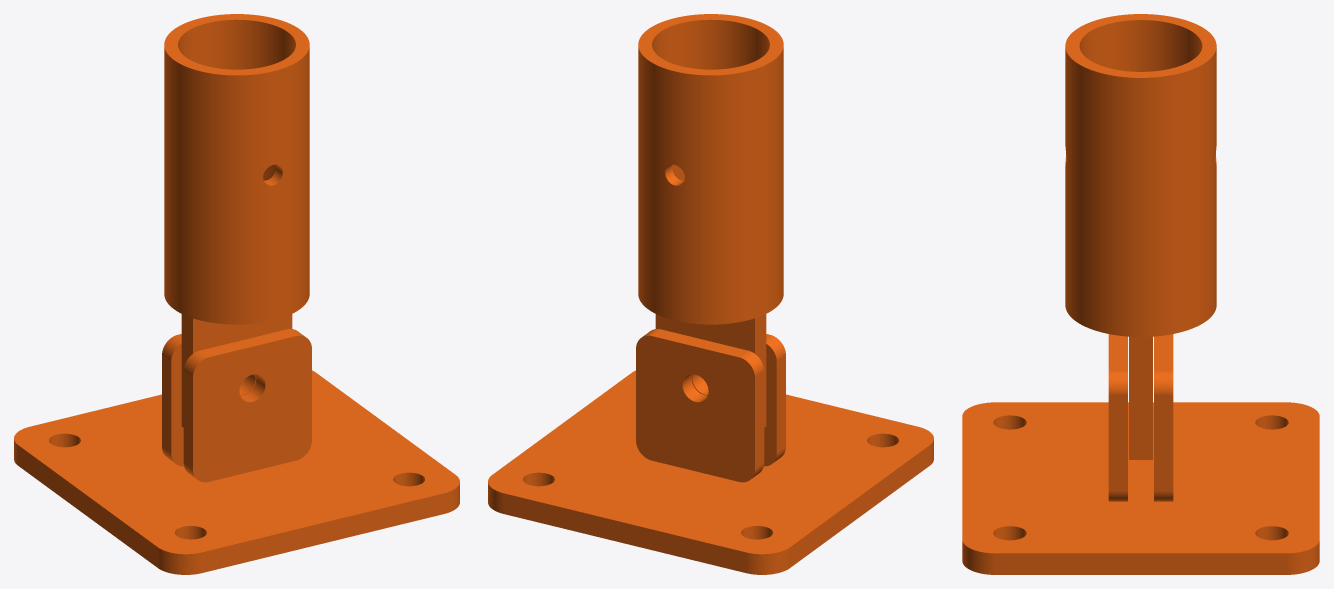
File: 06_pie_plano.glb
3 views of the same model, side by side, from view 1: azimuth 30°, elevation 25°; view 2: azimuth 150°, elevation 25°; view 3: azimuth 270°, elevation 25° (orthographic). The views are drawn at different scales.
Parts seen in each view (by area): view 1: 06_pie_plano; view 2: 06_pie_plano; view 3: 06_pie_plano.
Part boxes in pixels (x1,y1,x2,y2): 06_pie_plano: (14,14,459,574); 06_pie_plano: (488,14,933,574); 06_pie_plano: (962,14,1319,574).
Size of the model in its own units: 150 by 210 by 150.
